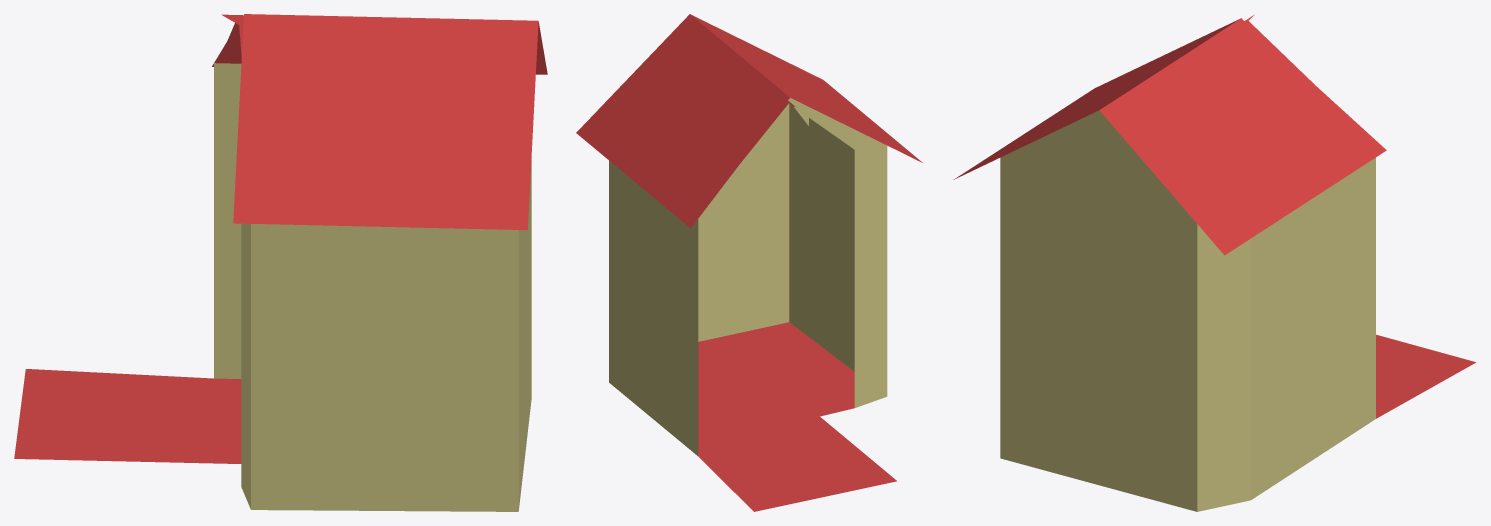
The picture shows the model from 3 angles, left to right: view 1: azimuth 30°, elevation 25°; view 2: azimuth 150°, elevation 25°; view 3: azimuth 270°, elevation 25°; orthographic projection. The views are drawn at different scales.
Bounding box in the file's own units: 15.21 × 16.29 × 13.06.
